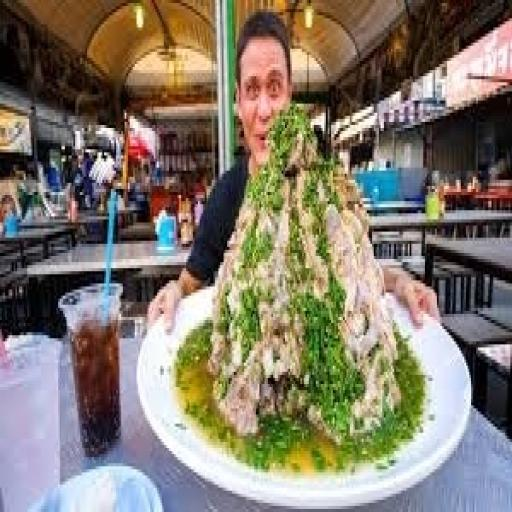eating: (145, 9, 440, 335)
